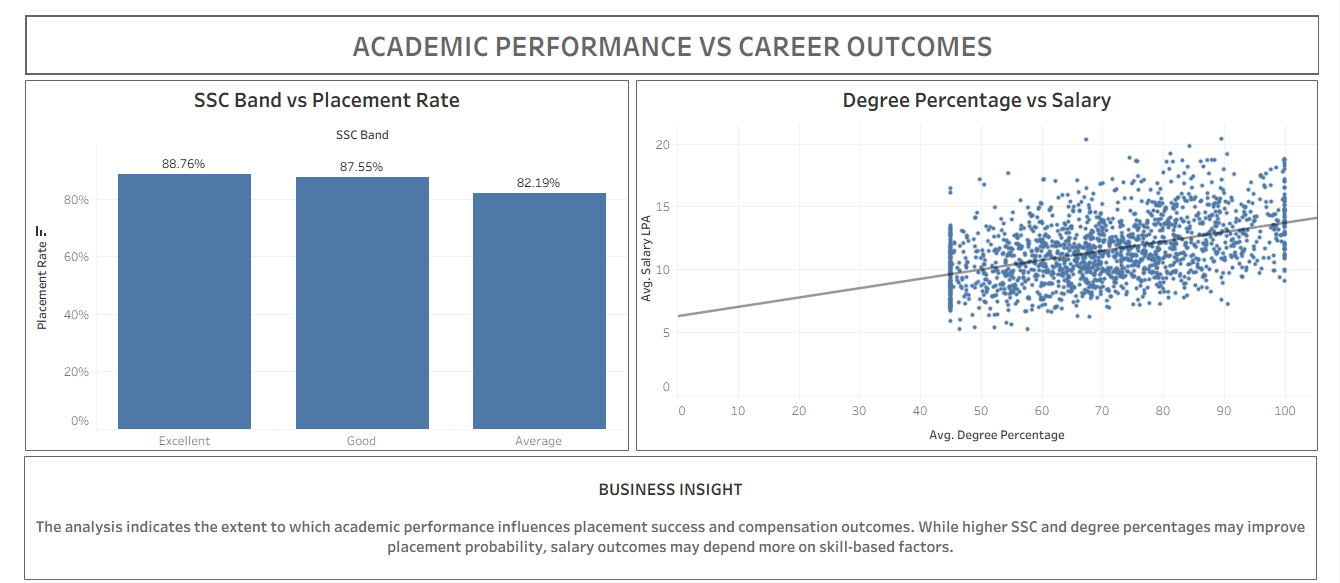

The page's visual inventory and layout, read from the dashboard file:
{"tool":"tableau","page":{"name":"Academic Performance Impact","canvas":[1000,1000],"units":"permille","ordinal":0},"visuals":[{"type":"text","box":[19.1,25.7,966.2,102.7]},{"type":"worksheet","title":"SSC Band vs Placement Rate","mark":"Automatic","rows":["Calculation_0515163097227265"],"cols":["Calculation_0515163113721858"],"box":[19.1,137,451.1,635.3]},{"type":"worksheet","title":"Degree Percentage vs Salary","mark":"Circle","rows":["Salary_LPA"],"cols":["Degree_Percentage"],"box":[475.3,137,509.1,635.3]},{"type":"text","box":[18.7,780.8,964.9,212.3]}]}

Visuals, with their boxes on the dashboard's canvas, which has no fixed pixel size, in thousandths of its width and height (x1, y1, x2, y2). These are canvas units, not pixel positions in the 1340x583 screenshot, which may show the page scaled, cropped or inside an application window:
text: pyautogui.locateOnScreen(19, 26, 985, 128)
"SSC Band vs Placement Rate" worksheet: pyautogui.locateOnScreen(19, 137, 470, 772)
"Degree Percentage vs Salary" worksheet (Circle marks): pyautogui.locateOnScreen(475, 137, 984, 772)
text: pyautogui.locateOnScreen(19, 781, 984, 993)
